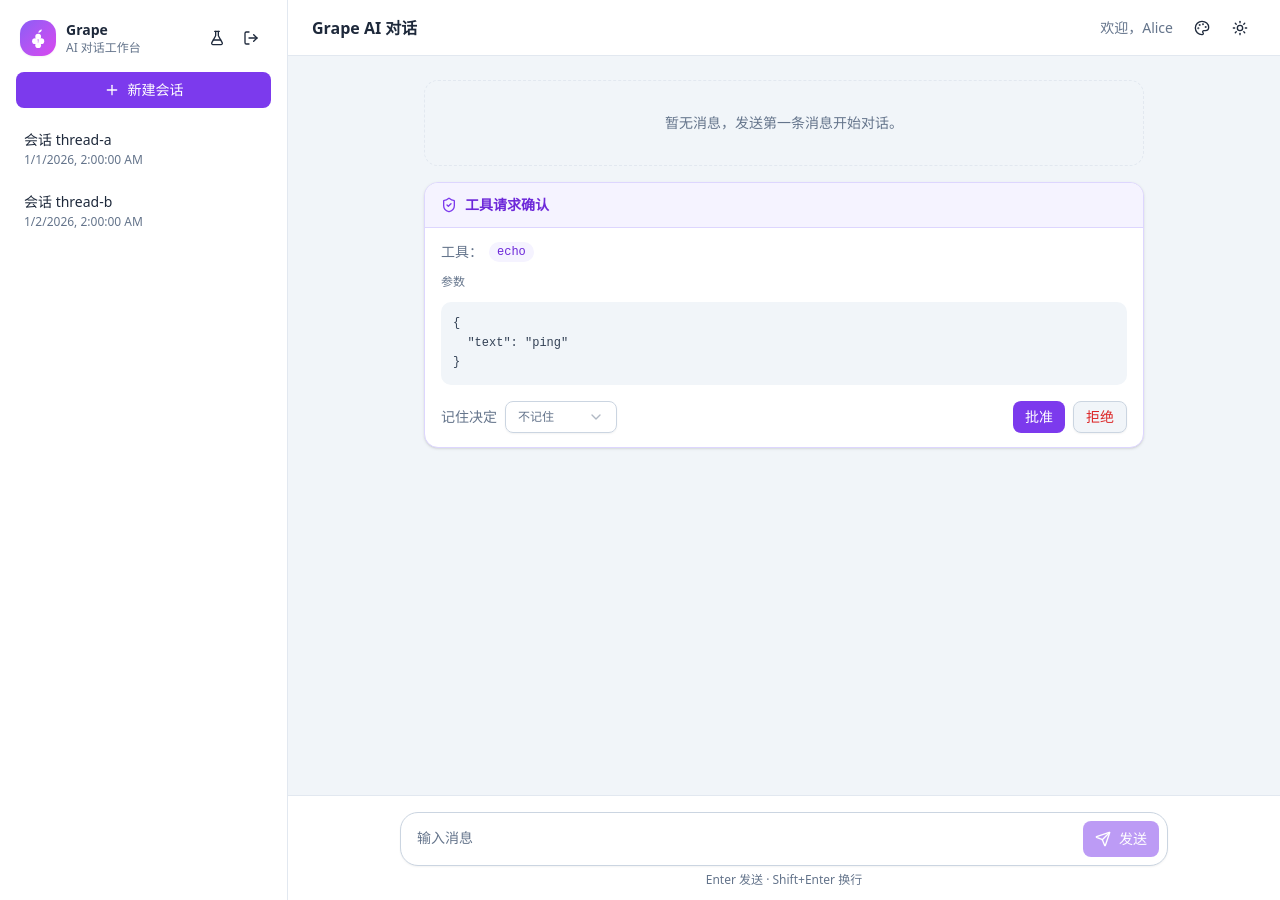
ChatPage history convergence after decision › repolls_history_after_the_already_decided_404_convergence_without_an_error
This screenshot has width=1280, height=900.
Click the button "拒绝". click: click(1100, 416)
box: [1073,400,1127,432]
Wait 1000 ms
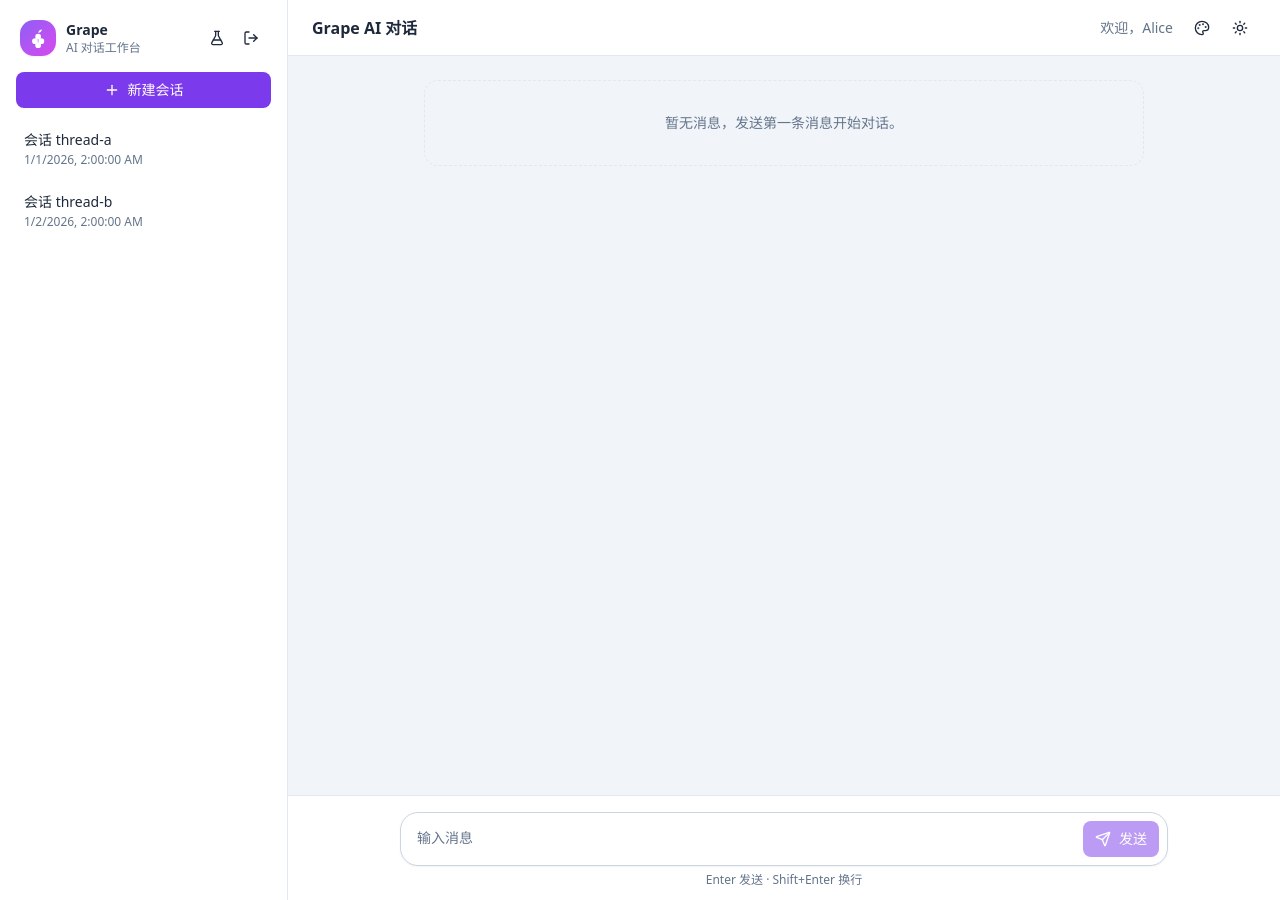
Expected: the element with test id "confirmation-card" is gone
